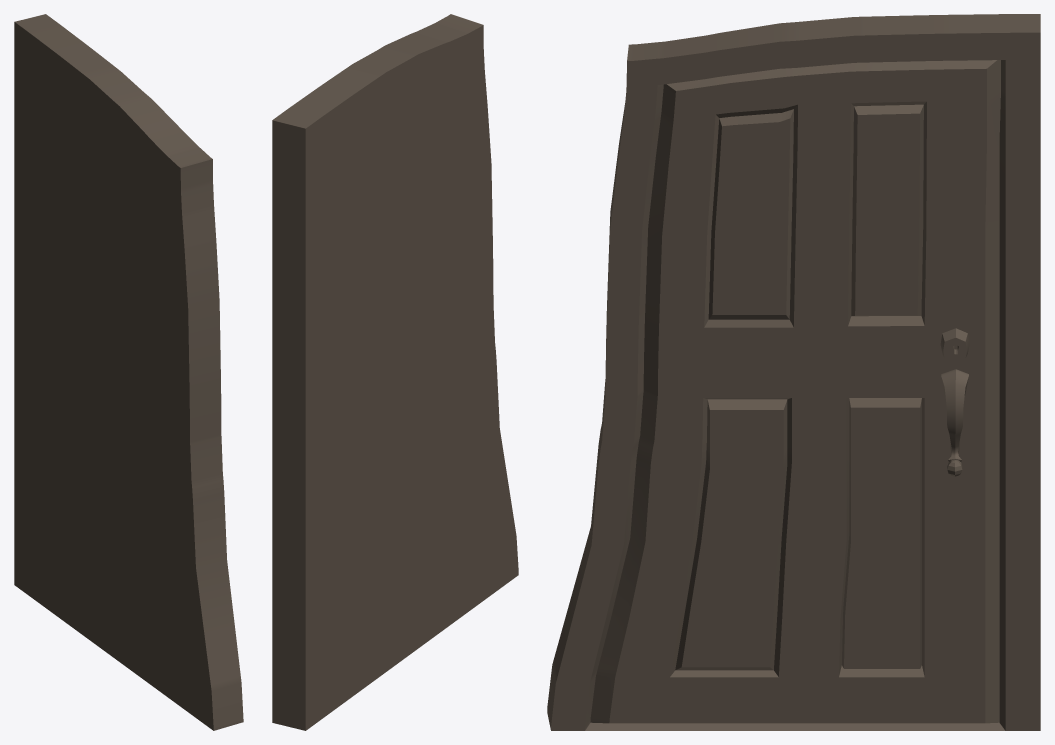
Rendered from ClosetDoor.fbx.
The picture shows the model from 3 angles, left to right: view 1: azimuth 30°, elevation 25°; view 2: azimuth 150°, elevation 25°; view 3: azimuth 270°, elevation 25°; orthographic projection. The views are drawn at different scales.
Visible parts, largest first — view 1: pSphere1; view 2: pSphere1; view 3: pSphere1.
Part boxes in pixels (x1=…): pSphere1: x1=14, y1=14, x2=243, y2=730; pSphere1: x1=272, y1=14, x2=518, y2=730; pSphere1: x1=547, y1=14, x2=1040, y2=730.
Size of the model in its own units: 0.6518 by 6.28 by 4.02.
